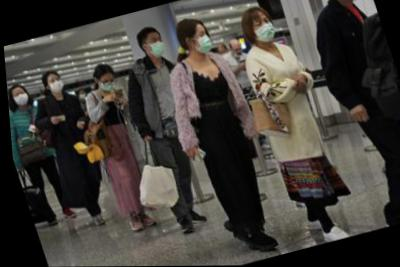OK: (249, 15, 278, 45), (190, 28, 215, 56), (144, 35, 168, 60), (10, 88, 30, 107), (96, 76, 117, 93), (45, 76, 64, 94), (77, 91, 87, 101)
WRONG: (230, 45, 245, 59)
